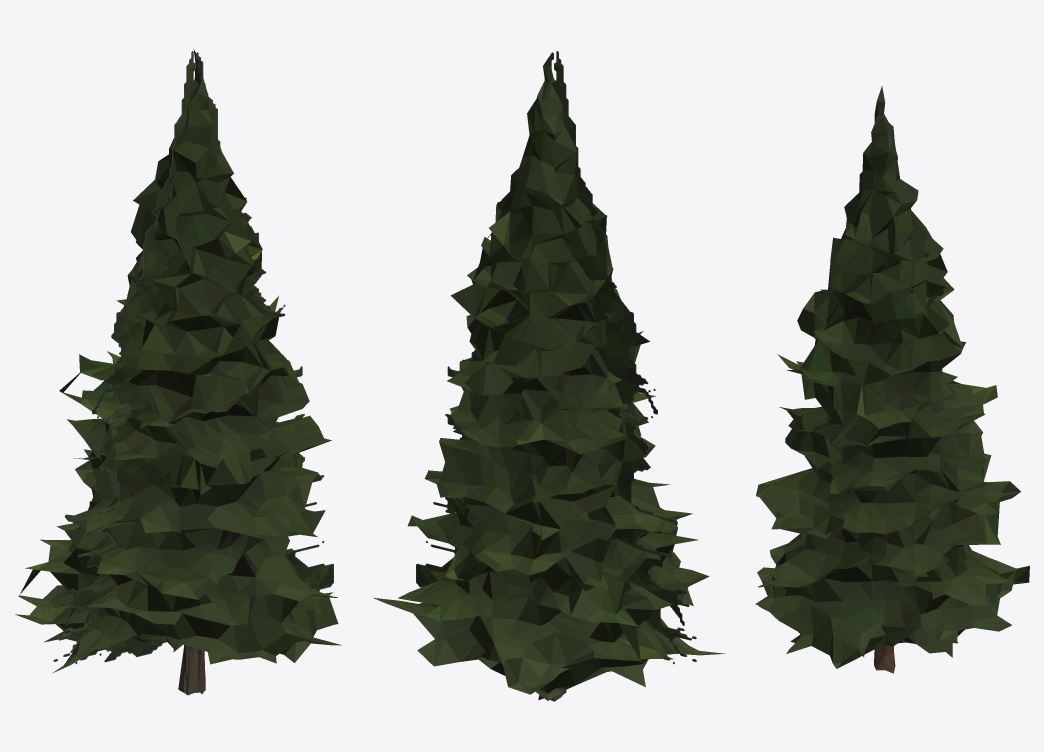
The model's file is mn_fir.glb.
3 views of the same model, side by side, from view 1: azimuth 30°, elevation 25°; view 2: azimuth 150°, elevation 25°; view 3: azimuth 270°, elevation 25° (orthographic). The views are drawn at different scales.
Visible parts, largest first — view 1: mn_fir, mn_fir_impostor; view 2: mn_fir, mn_fir_impostor; view 3: mn_fir.
Part boxes in pixels (<box>): mn_fir: <box>15,49,341,694</box>; mn_fir_impostor: <box>53,51,333,695</box>; mn_fir: <box>373,52,725,701</box>; mn_fir_impostor: <box>416,51,696,693</box>; mn_fir: <box>755,86,1029,673</box>.
Size of what is drawn, in the model's own units: 4.35 by 8.7 by 3.69.
Materials: 2 (1 with a texture image).
